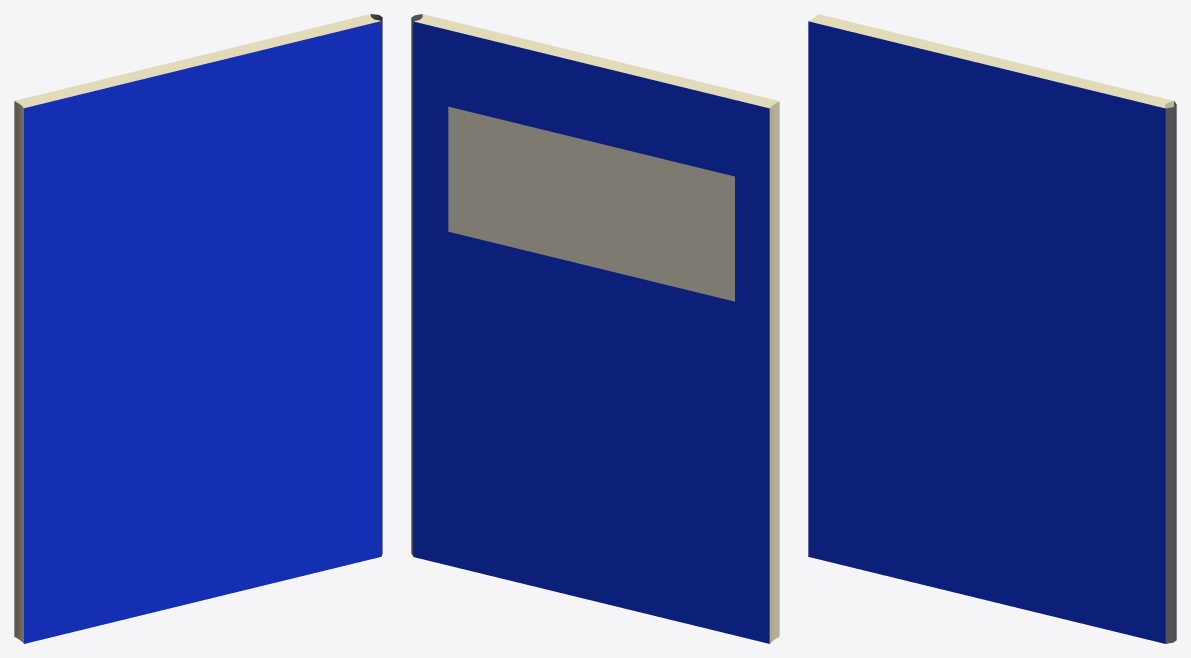
File: Notebook_02.fbx
3 views of the same model, side by side, from view 1: azimuth 30°, elevation 25°; view 2: azimuth 150°, elevation 25°; view 3: azimuth 330°, elevation 25° (orthographic).
Visible parts, largest first — view 1: Notebook_02; view 2: Notebook_02; view 3: Notebook_02.
Boxes of the visible parts, bbox=[...] form: Notebook_02: bbox=[14, 14, 382, 643]; Notebook_02: bbox=[411, 14, 779, 643]; Notebook_02: bbox=[808, 14, 1176, 643].
Size of the model in its own units: 21 by 29.7 by 1.
